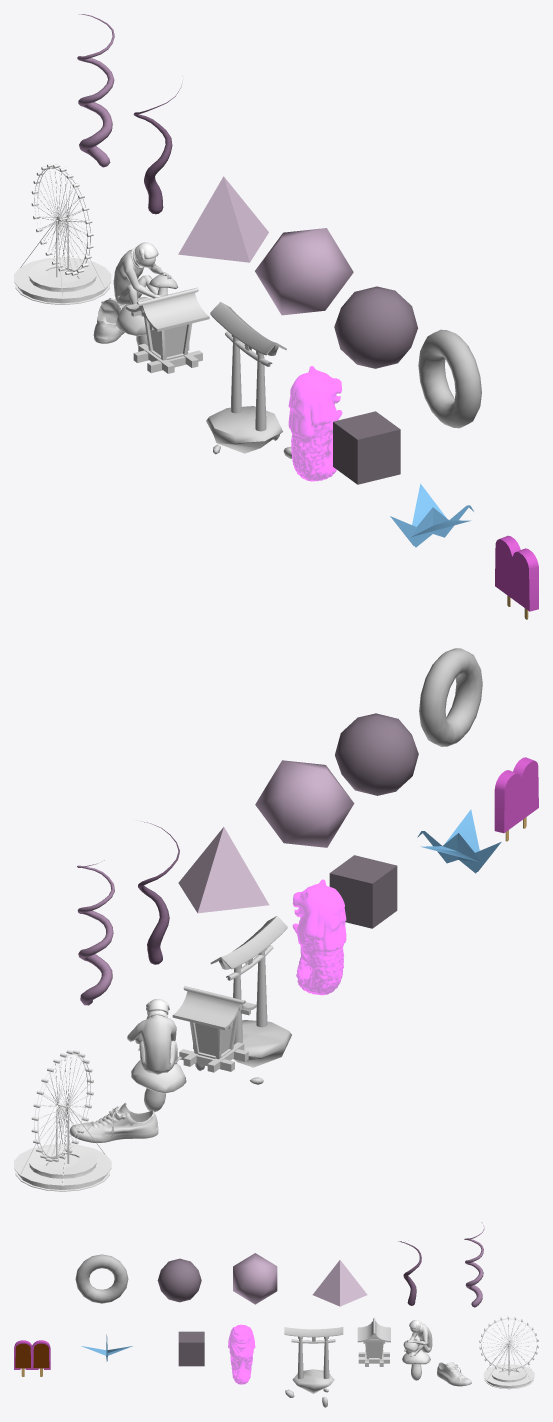
3 views of the same model, one above another, from view 1: azimuth 30°, elevation 25°; view 2: azimuth 150°, elevation 25°; view 3: azimuth 270°, elevation 25° (orthographic). The views are drawn at different scales.
Visible parts, largest first — view 1: wheel, confetti1, tori, confetti5, statue, confetti6, lamp, confetti2, cube, mushroom_big, icecream, origami (+3 smaller); view 2: wheel, confetti1, confetti5, statue, tori, confetti6, lamp, confetti2, mushroom_big, cube, icecream, sneaker (+3 smaller); view 3: wheel, tori, confetti1, confetti6, confetti5, confetti2, statue, lamp, mushroom_big, icecream, cube, sneaker (+2 smaller).
Boxes of the visible parts, bbox=[...] form: wheel: bbox=[14, 163, 111, 304]; confetti1: bbox=[255, 228, 353, 315]; tori: bbox=[206, 301, 291, 458]; confetti5: bbox=[334, 286, 417, 368]; statue: bbox=[288, 366, 342, 481]; confetti6: bbox=[418, 329, 481, 428]; lamp: bbox=[126, 287, 209, 373]; confetti2: bbox=[178, 176, 268, 262]; cube: bbox=[333, 411, 400, 484]; mushroom_big: bbox=[113, 242, 178, 345]; icecream: bbox=[495, 535, 538, 619]; origami: bbox=[390, 483, 473, 547]; wheel: bbox=[14, 1050, 111, 1191]; confetti1: bbox=[255, 760, 354, 847]; confetti5: bbox=[335, 713, 418, 795]; statue: bbox=[292, 879, 346, 995]; tori: bbox=[195, 916, 291, 1084]; confetti6: bbox=[419, 648, 482, 746]; lamp: bbox=[172, 986, 256, 1072]; confetti2: bbox=[178, 827, 269, 913]; mushroom_big: bbox=[127, 999, 186, 1111]; cube: bbox=[329, 855, 397, 928]; icecream: bbox=[494, 757, 538, 841]; sneaker: bbox=[69, 1102, 158, 1142]; wheel: bbox=[479, 1316, 538, 1389]; tori: bbox=[284, 1327, 343, 1407]; confetti1: bbox=[233, 1253, 277, 1304]; confetti6: bbox=[75, 1254, 128, 1303]; confetti5: bbox=[157, 1258, 201, 1302]; confetti2: bbox=[312, 1260, 367, 1306]; statue: bbox=[228, 1324, 255, 1384]; lamp: bbox=[357, 1317, 390, 1366]; mushroom_big: bbox=[402, 1320, 432, 1380]; icecream: bbox=[14, 1340, 50, 1376]; cube: bbox=[178, 1331, 204, 1366]; sneaker: bbox=[437, 1362, 471, 1386].
Size of the model in its own units: 141 by 443 by 1209.
